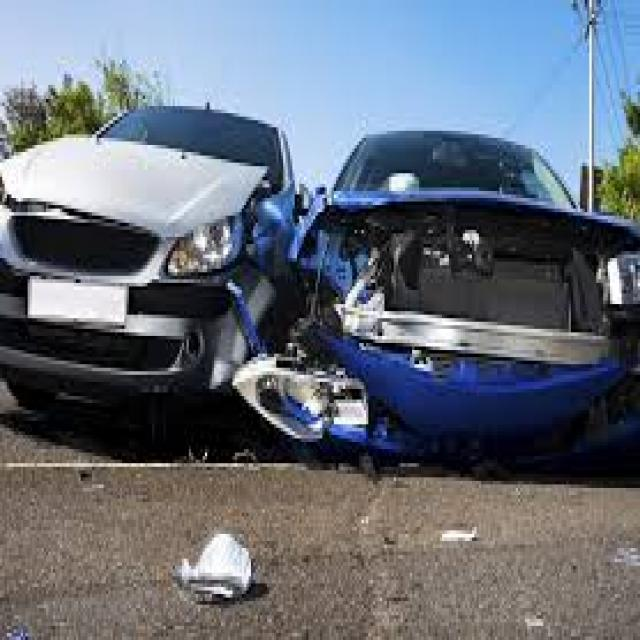accident: (67, 123, 570, 503)
